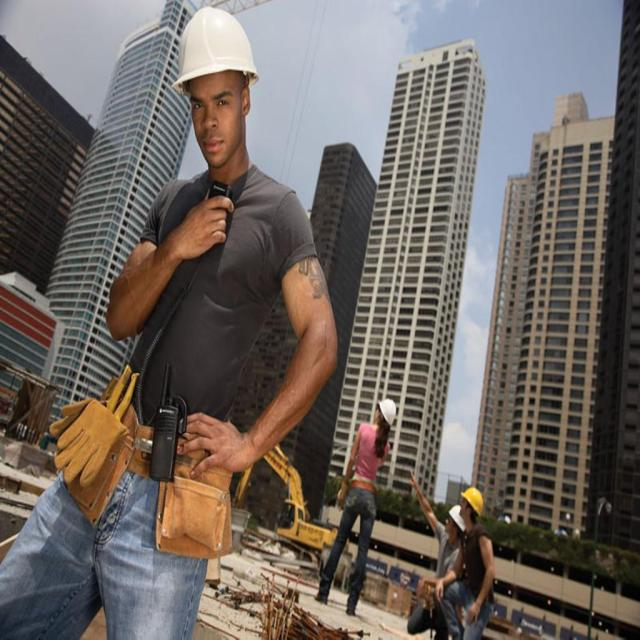Face: (186, 67, 255, 179)
